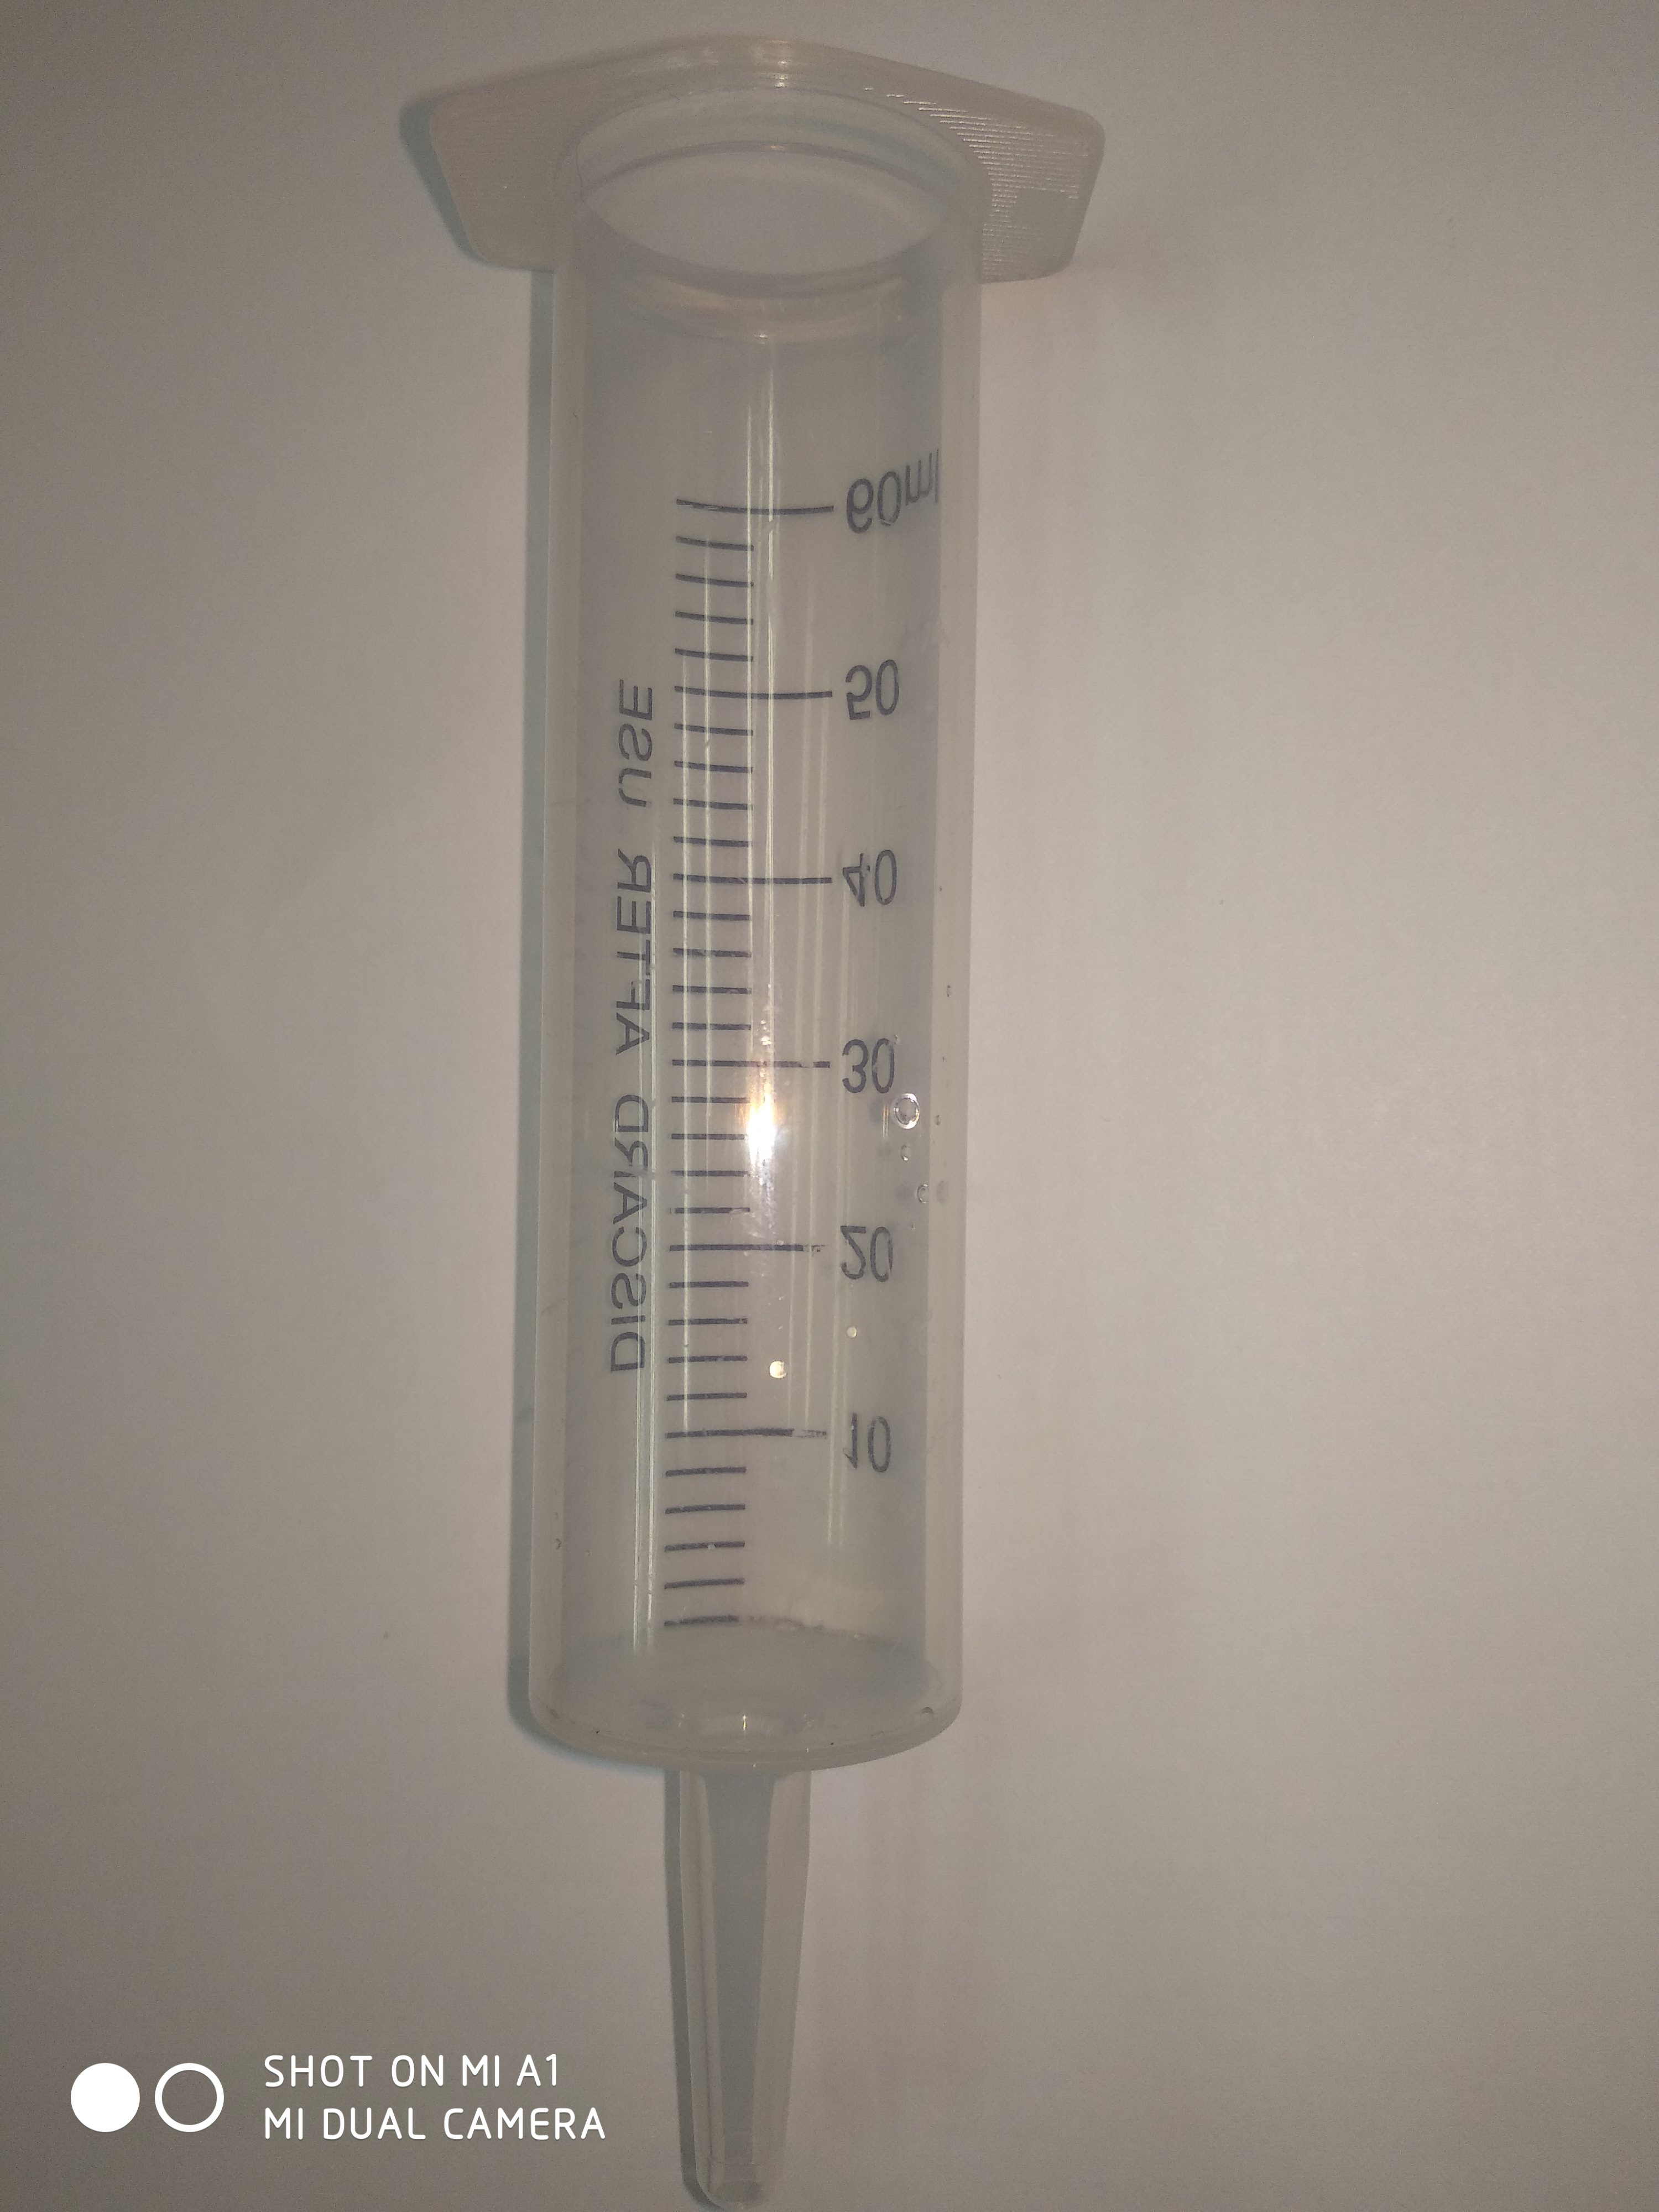syringe: (399, 31, 1279, 2202)
